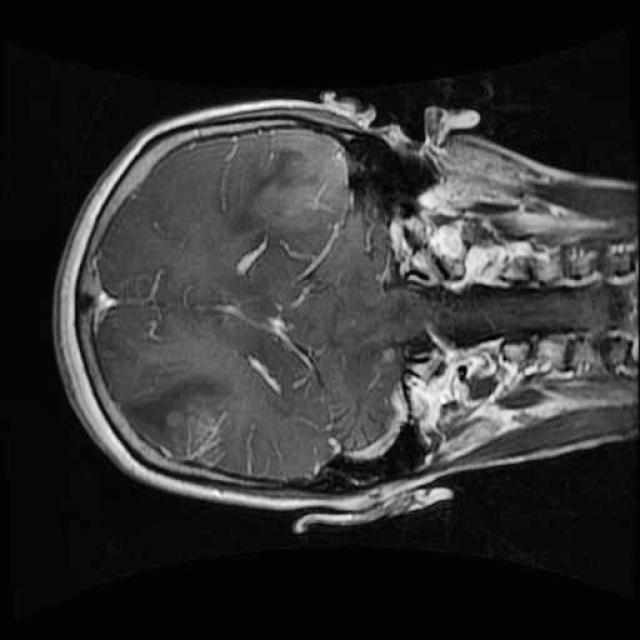Tumor: (104, 362, 240, 479)
